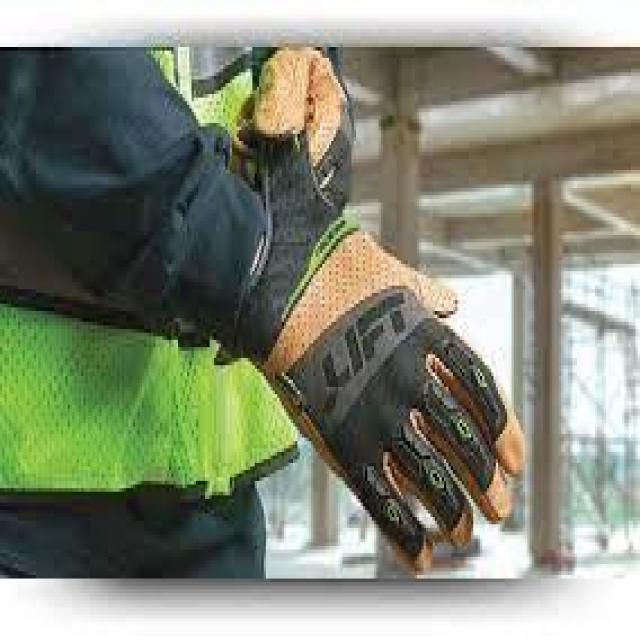Gloves: (220, 117, 530, 576)
Person: (0, 48, 524, 580)
